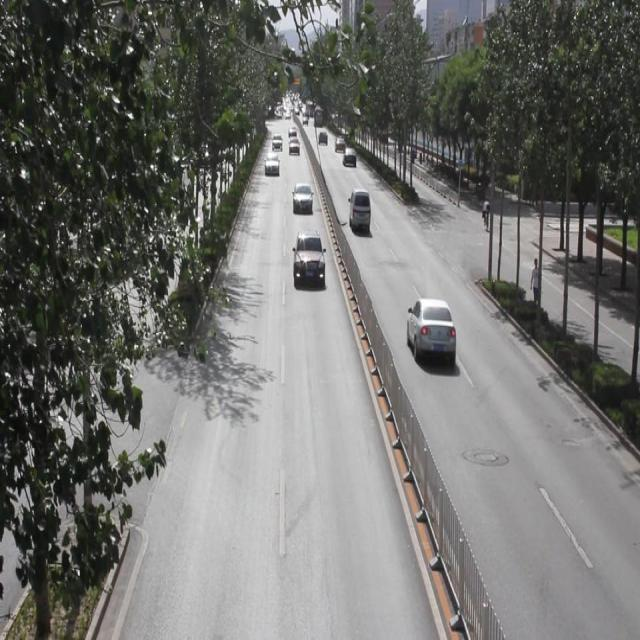car: (406, 298, 456, 363), (292, 229, 325, 283), (292, 180, 313, 212), (264, 152, 280, 177), (343, 146, 356, 168), (288, 136, 301, 154), (271, 132, 283, 150), (334, 135, 346, 151), (317, 129, 328, 144), (287, 124, 297, 138)
truck: (348, 188, 371, 232)
